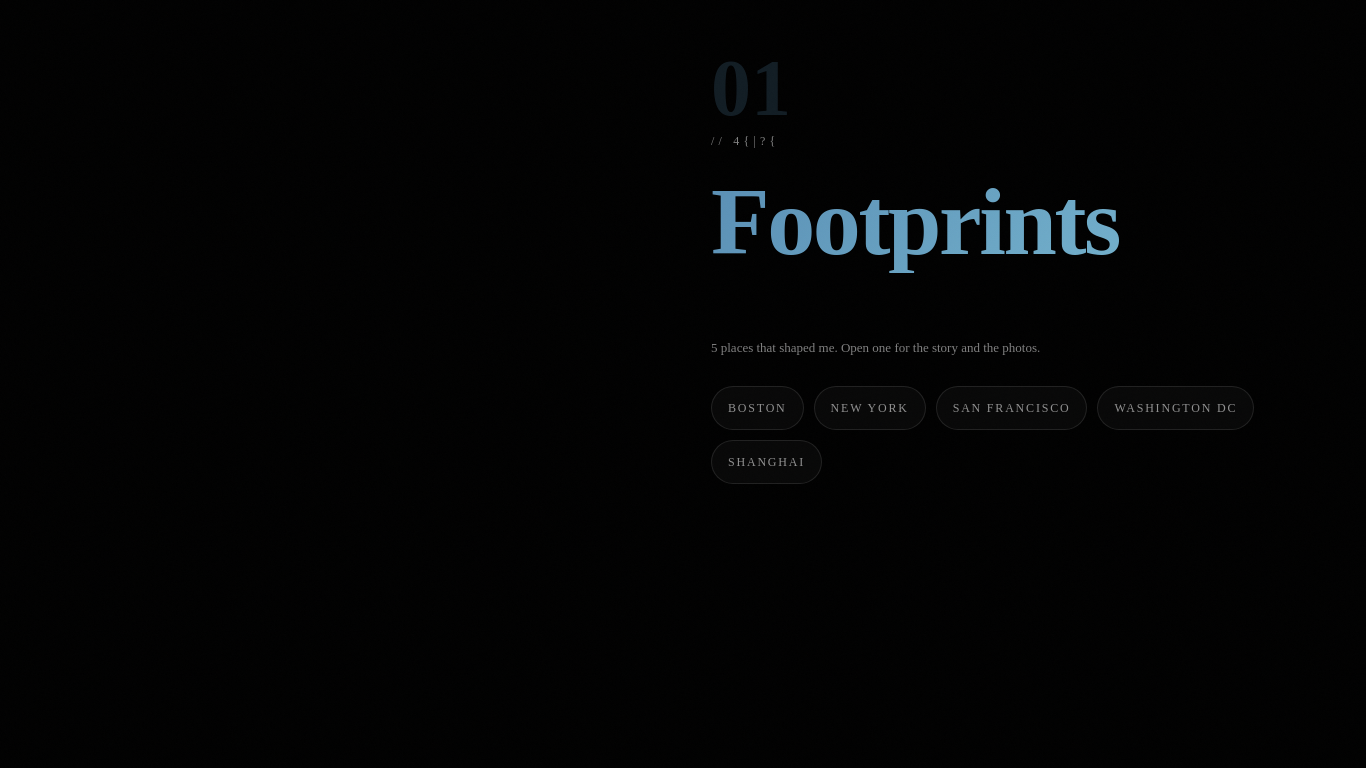
Footprints › freezes the page while open and gives the scroll back on close
The width and height of the screenshot is (1366, 768).
Click the button "Boston".
click(757, 408)  # box left=711, top=386, right=804, bottom=430
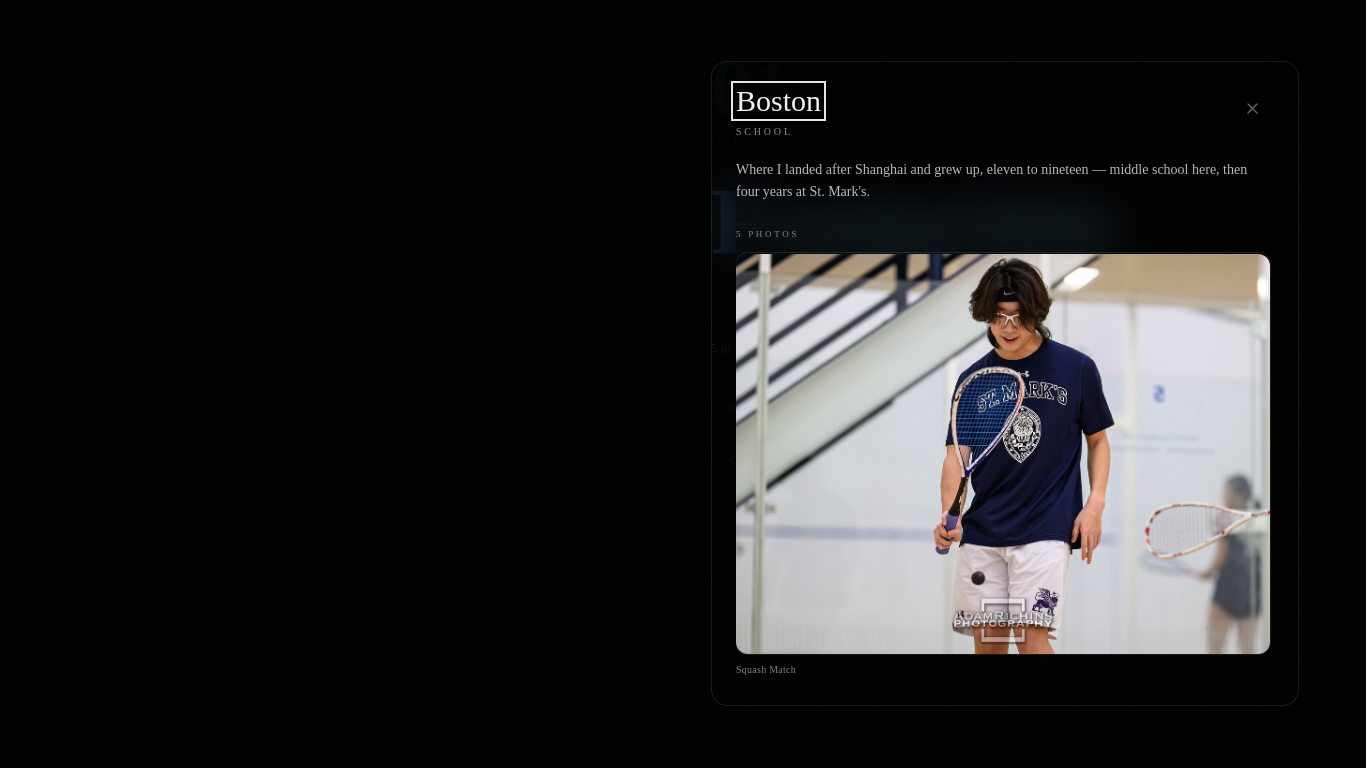
Click the button named "Close Boston".
click(1252, 108)  # box left=1230, top=86, right=1274, bottom=130
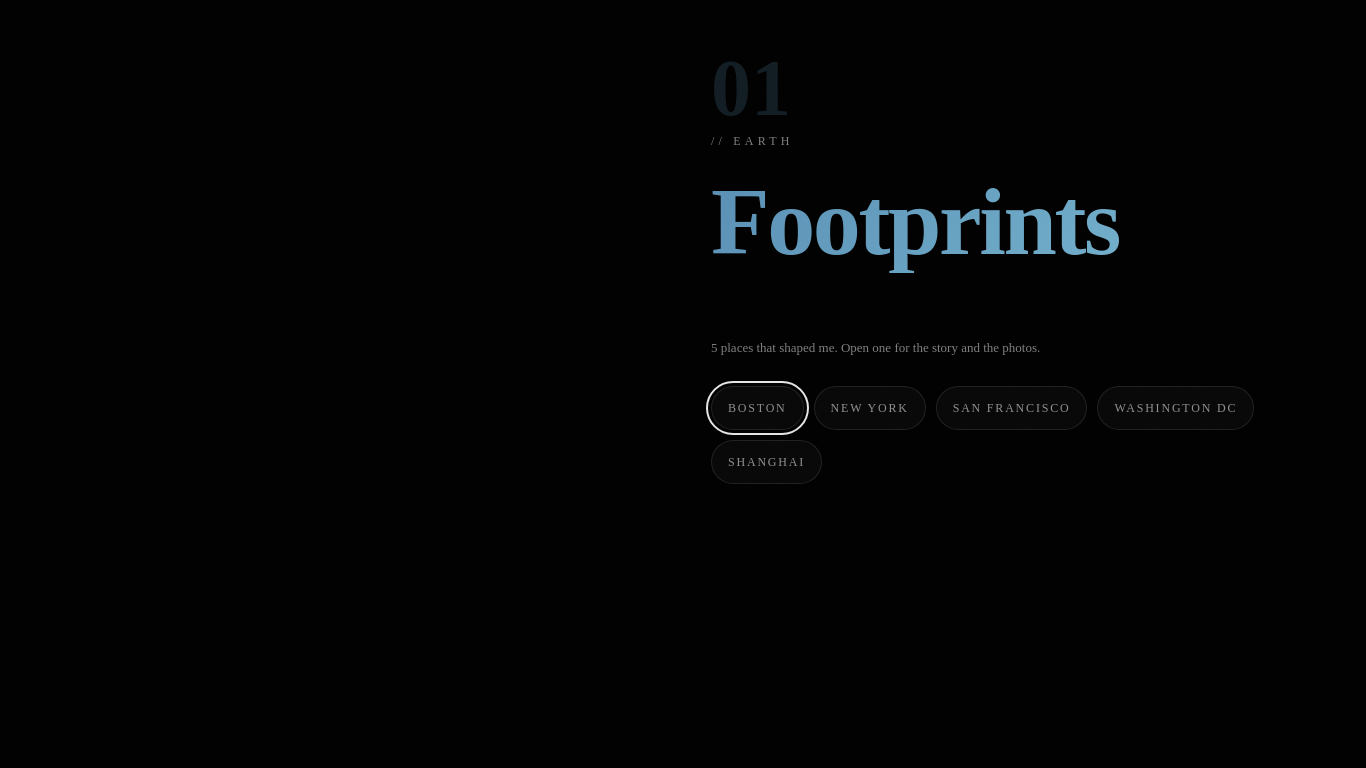
Expected: the dialog is gone
